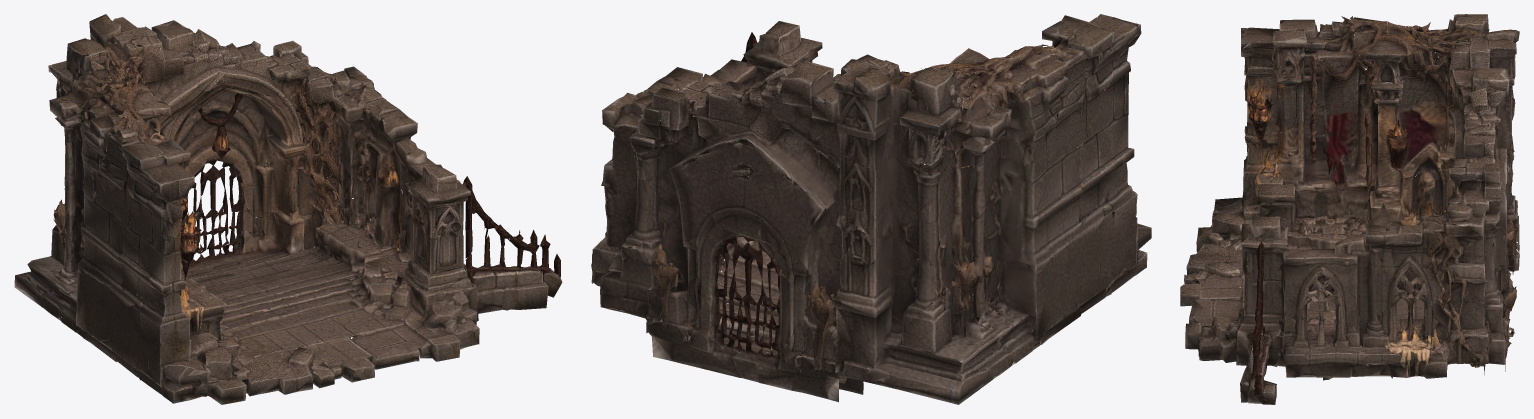
The model's file is crypt_entrance_mobile.glb.
The picture shows the model from 3 angles, left to right: view 1: azimuth 30°, elevation 25°; view 2: azimuth 150°, elevation 25°; view 3: azimuth 270°, elevation 25°; orthographic projection. The views are drawn at different scales.
Visible parts, largest first — view 1: Mesh_0; view 2: Mesh_0; view 3: Mesh_0.
Part boxes in pixels (x1,y1,x2,y2): Mesh_0: [14, 14, 562, 404]; Mesh_0: [591, 14, 1151, 404]; Mesh_0: [1180, 14, 1519, 404].
Size of the model in its own units: 1.9 by 1.25 by 1.47.
1 material, 1 textured.
